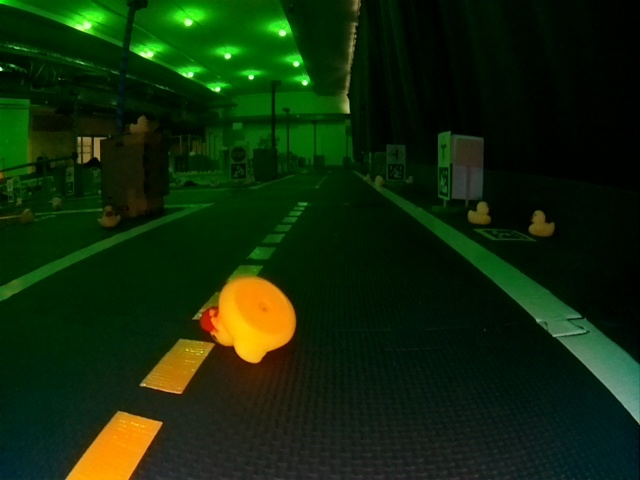Duckie: (199, 278, 297, 364), (530, 210, 553, 236), (97, 206, 121, 227), (469, 202, 491, 223), (131, 116, 149, 132), (21, 209, 34, 223), (52, 198, 62, 208), (375, 176, 385, 185), (406, 175, 414, 185), (363, 174, 372, 182)
Intersection sign: (438, 135, 449, 164), (387, 145, 404, 161)
QR code: (476, 228, 534, 241), (438, 167, 450, 196), (387, 164, 405, 180), (231, 163, 245, 179)
Stop sign: (230, 145, 247, 162)
